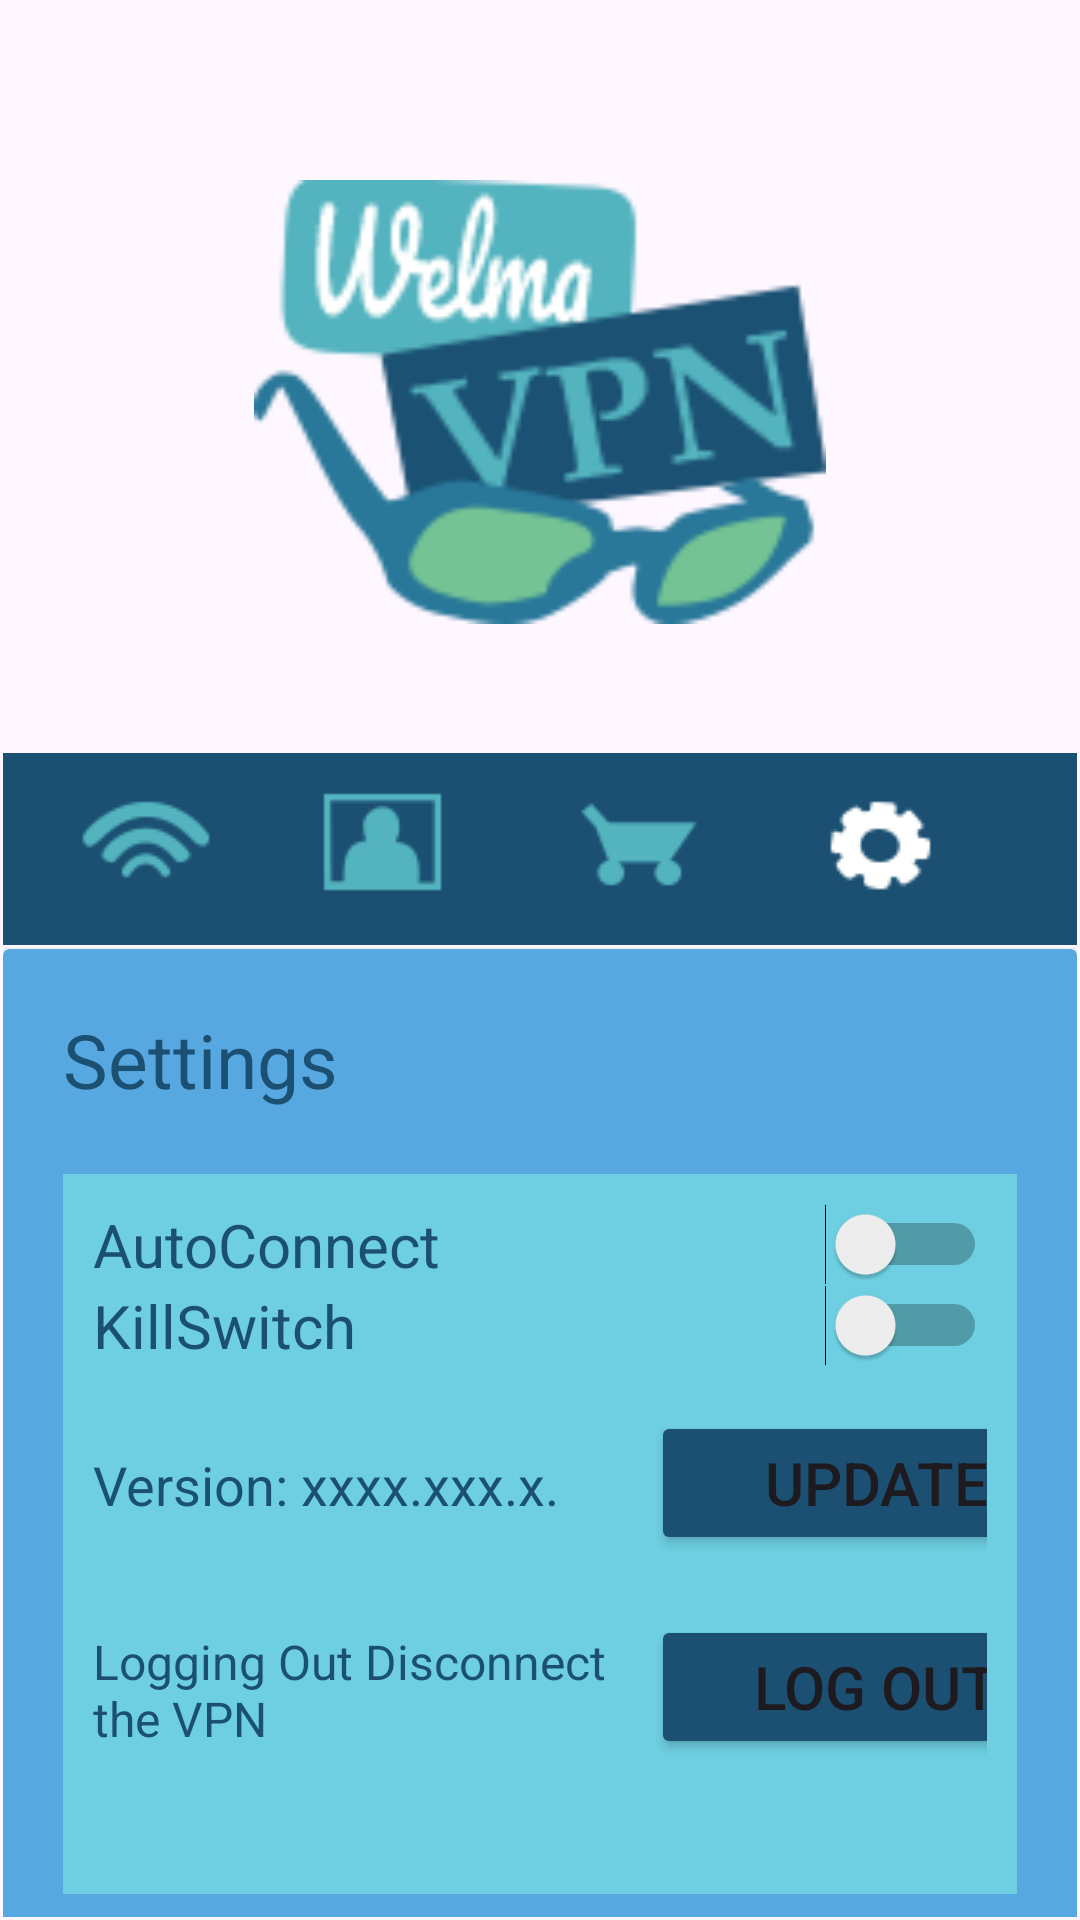

Icons on this 1080 × 1920 Android screen, each with the point to tap as [x,y]:
connection: [145,849]
shop: [639,843]
user: [384,842]
